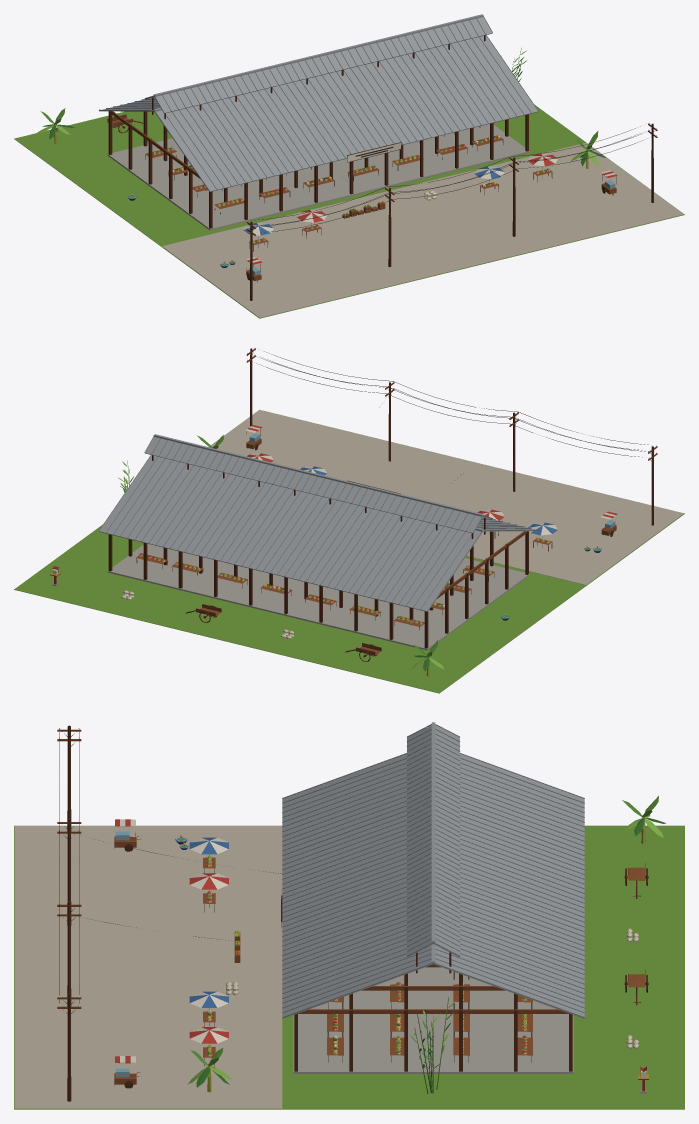
File: market.glb
The picture shows the model from 3 angles, top to bottom: view 1: azimuth 30°, elevation 25°; view 2: azimuth 150°, elevation 25°; view 3: azimuth 270°, elevation 25°; orthographic projection. The views are drawn at different scales.
Parts seen in each view (by area): view 1: body; view 2: body; view 3: body.
Part boxes in pixels (left/top/right/bottom): body: left=14, top=14, right=684, bottom=318; body: left=14, top=348, right=684, bottom=693; body: left=14, top=722, right=684, bottom=1109.
Bounding box in the file's own units: 47.9 × 10.75 × 47.9.
